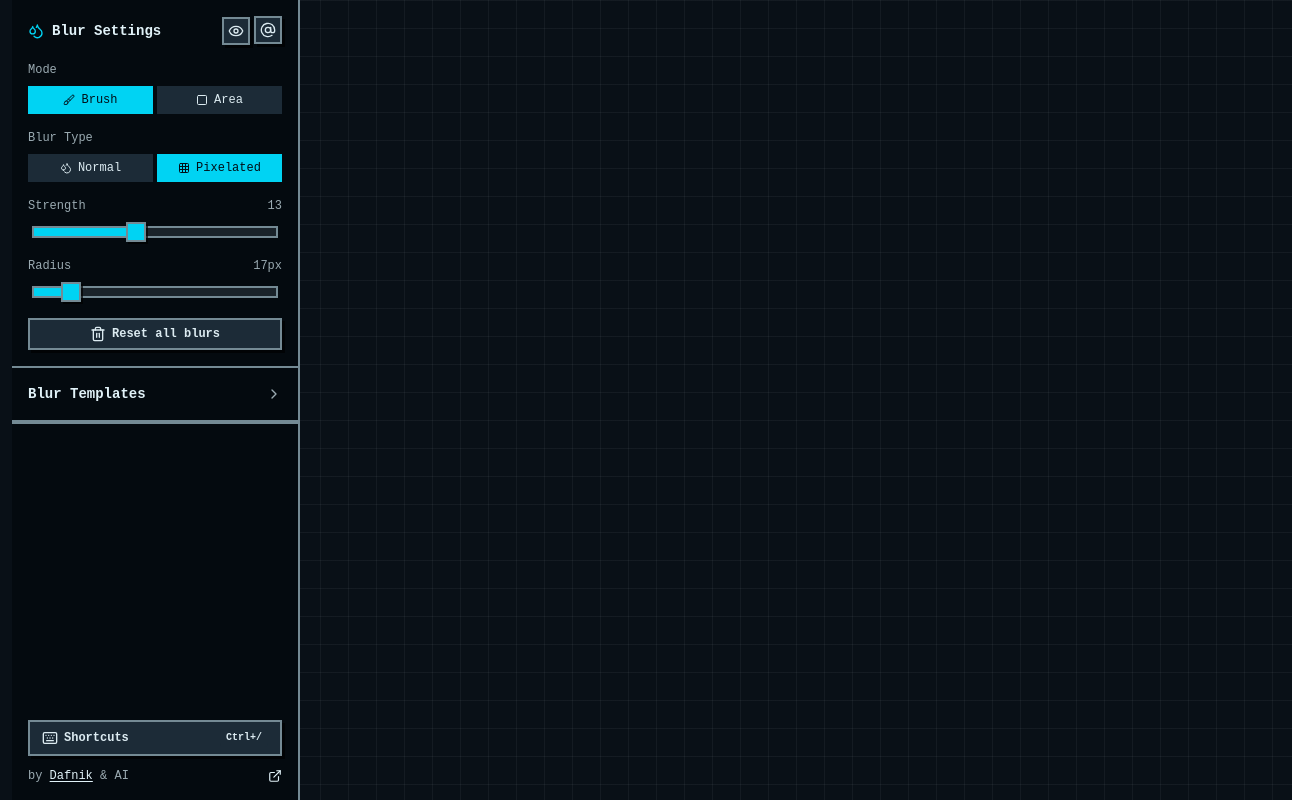
it: EditorSidebar blur settings behavior › auto-blurs detected emails and appends generated box strokes
Click the button named "open auto blur menu".
click(268, 30)  # box [254,16,282,44]
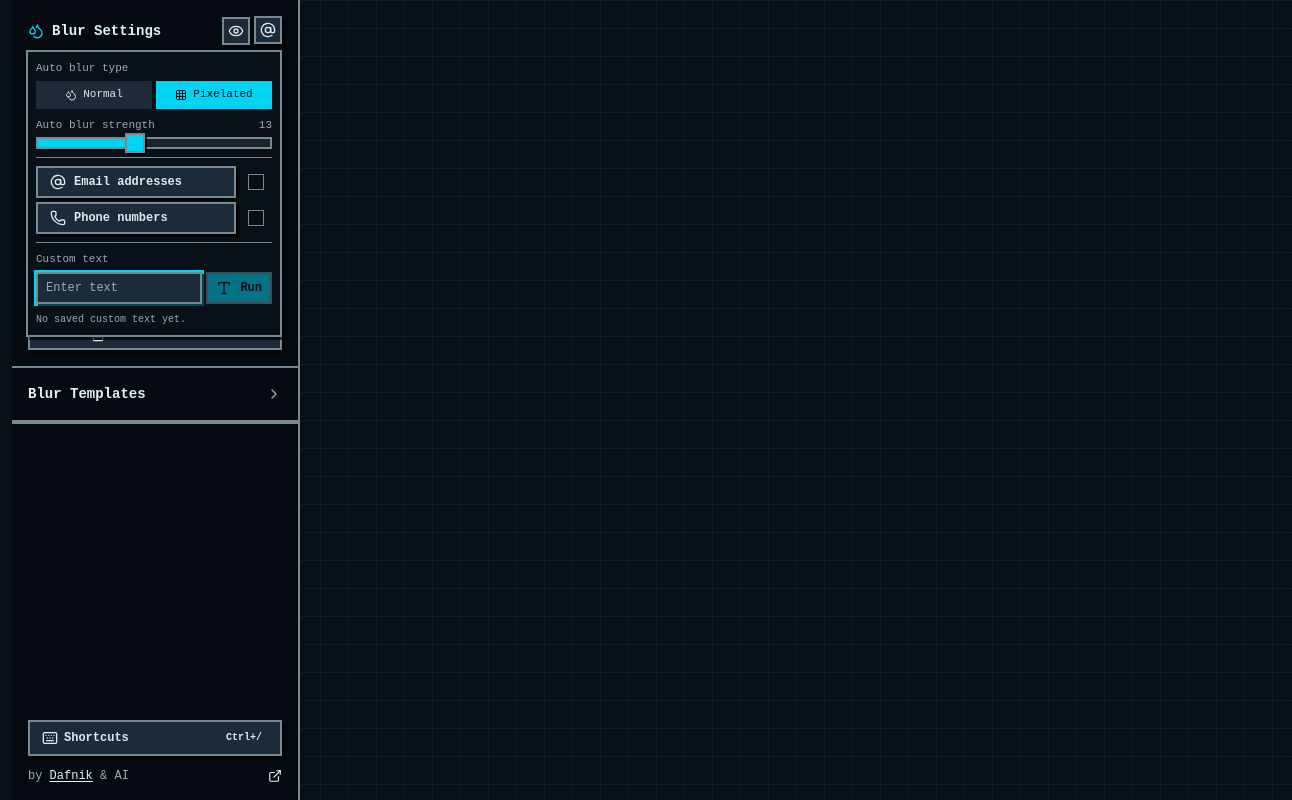
Click the button with aria-label "auto blur email addresses".
click(136, 182)  # box [36,166,236,198]
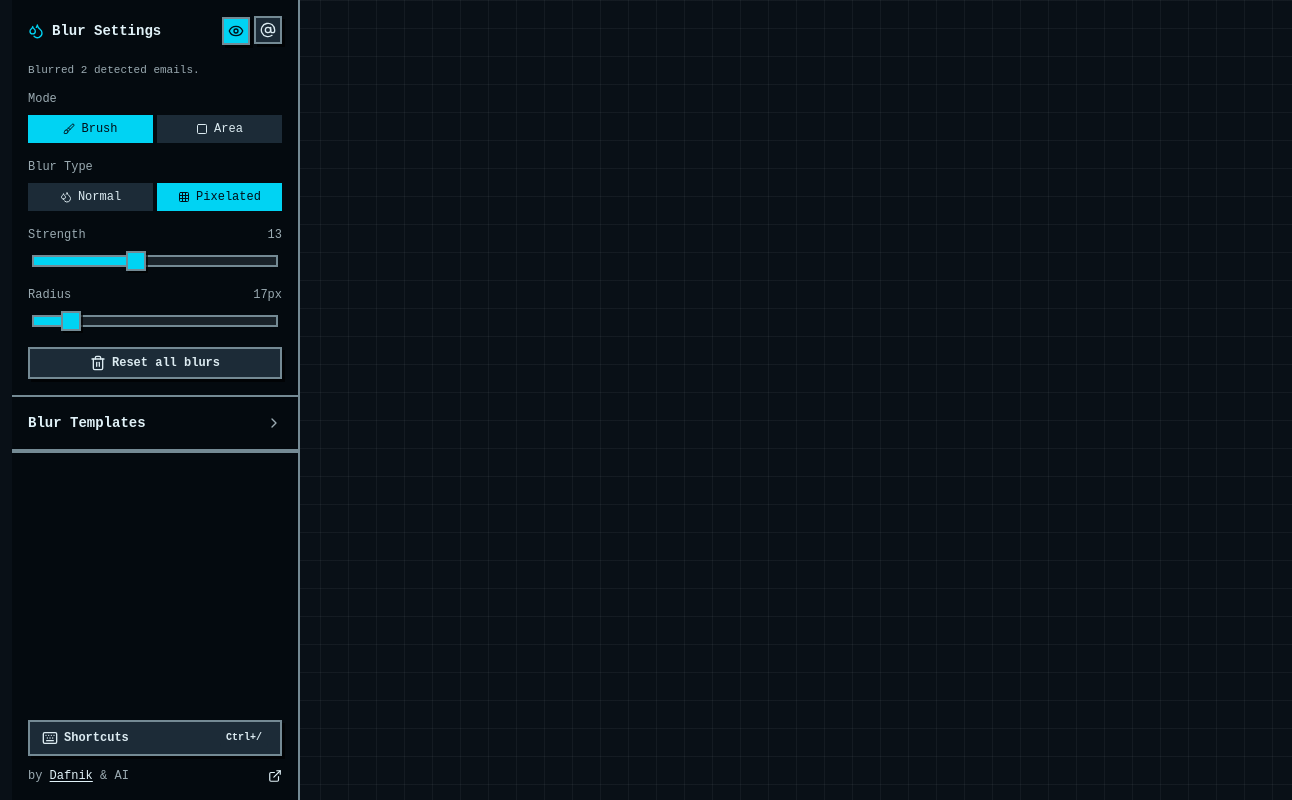
Expected: the text "Blurred 2 detected emails." is shown, [28,64,200,76]
